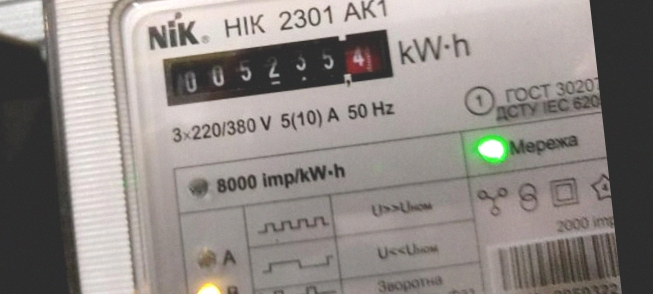0: (180, 67, 198, 93), (208, 62, 225, 87)
2: (262, 52, 281, 79)
3: (289, 46, 308, 72)
4: (346, 39, 367, 70)
5: (316, 42, 335, 71), (235, 56, 252, 82)
screen: (146, 17, 403, 116)
